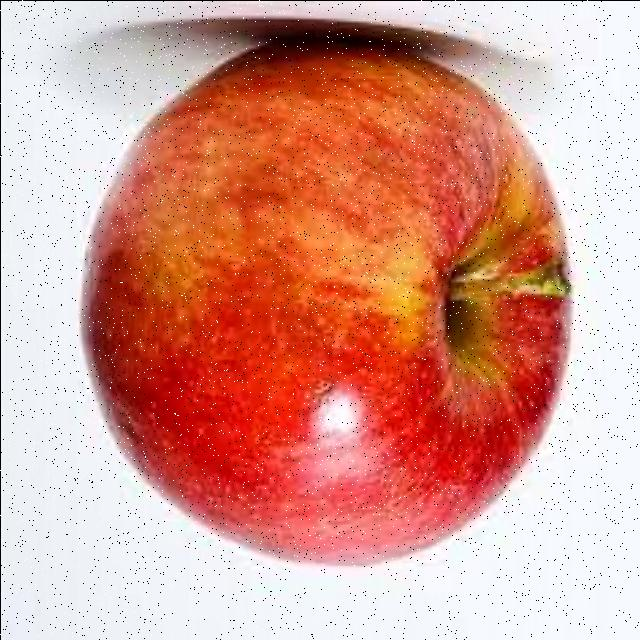HEALTHY: (48, 13, 590, 580)
